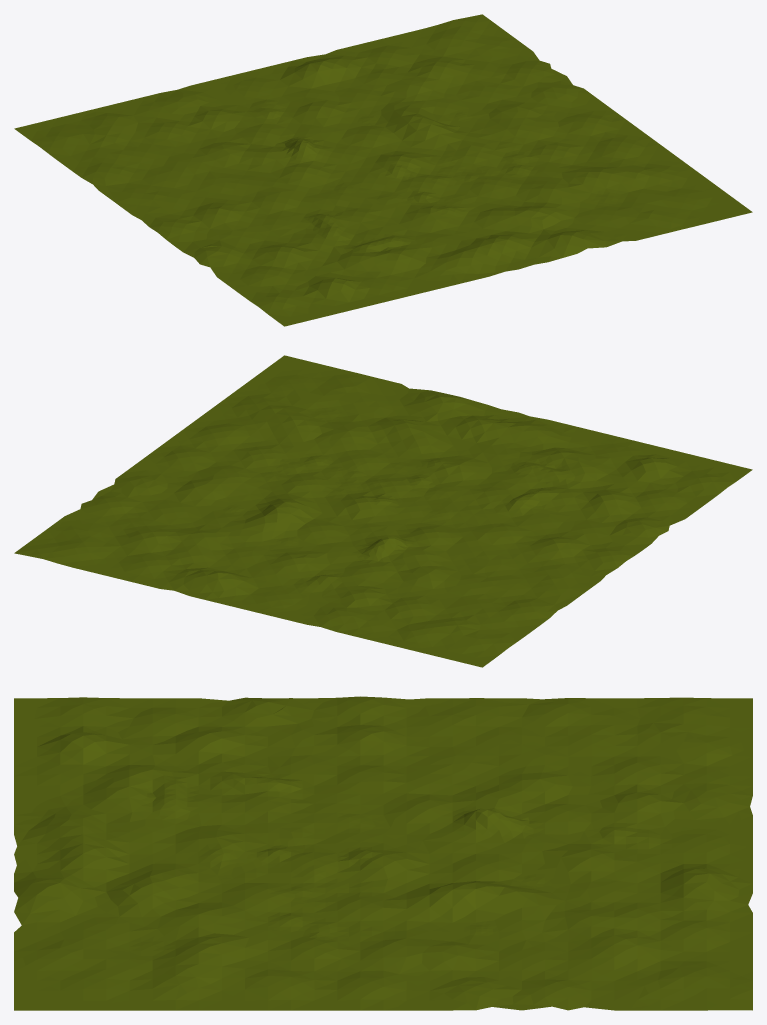
File: ground.fbx
The picture shows the model from 3 angles, top to bottom: view 1: azimuth 30°, elevation 25°; view 2: azimuth 150°, elevation 25°; view 3: azimuth 270°, elevation 25°; orthographic projection. The views are drawn at different scales.
Parts seen in each view (by area): view 1: Plane; view 2: Plane; view 3: Plane.
Boxes of the visible parts, box(x1,y1,x2,y2) form: Plane: box(14, 14, 752, 326); Plane: box(14, 355, 752, 667); Plane: box(14, 696, 752, 1010).
Bounding box in the file's own units: 2000 × 45.93 × 2000.
